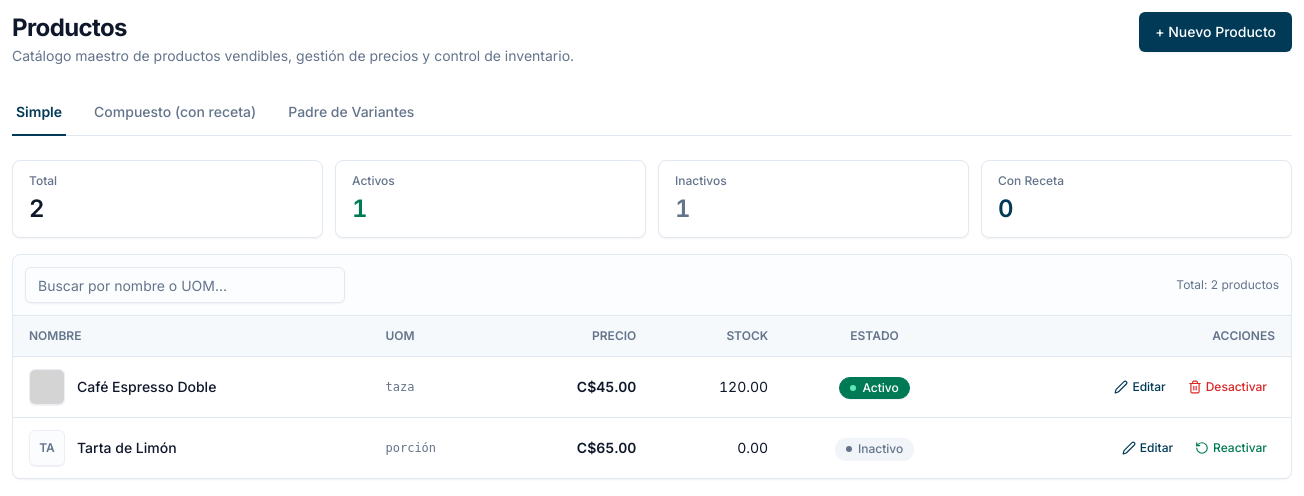
it: S3 — NHILoS Backoffice Experience Layout & Luxury (NHILoS §7, §41) › provides search input with clear action button
Type "Espresso" into the field with placeholder "Buscar por nombre o UOM..." at (185,285), box [25,267,345,303]
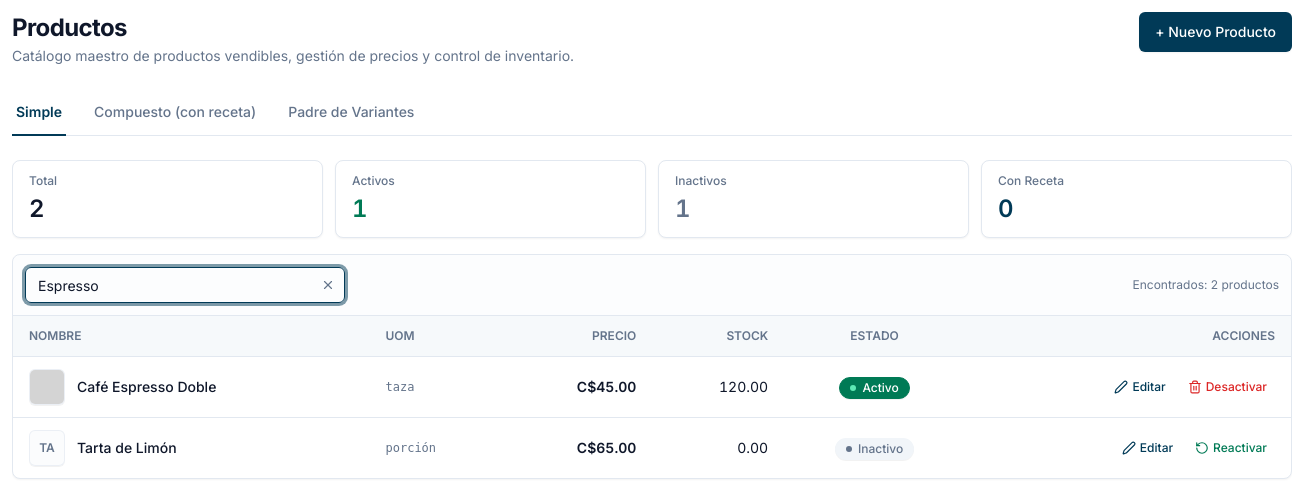
Now the button named "Limpiar búsqueda" is shown
Click the button named "Limpiar búsqueda" at (328,285), box [321,278,335,292]
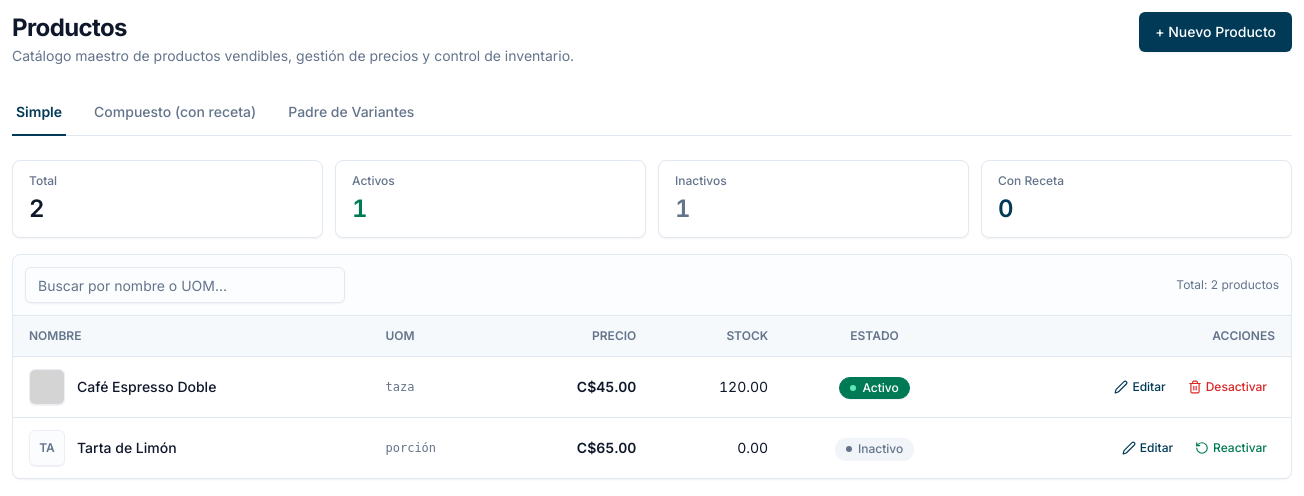
Now the field with placeholder "Buscar por nombre o UOM..." is empty, box [25,267,345,303]
